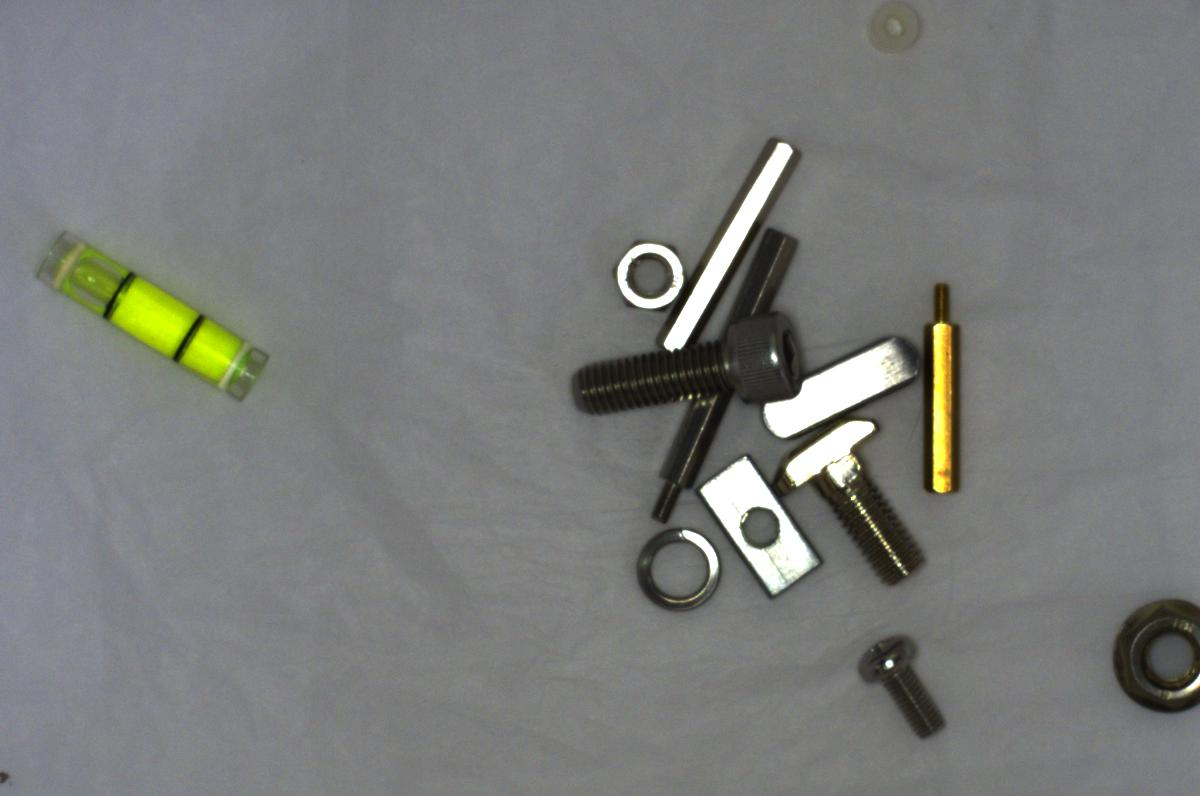Double hexagonal column: (641, 131, 810, 358)
Flange nut: (1084, 592, 1199, 718)
Hexagon nut: (605, 232, 685, 313)
Hexagon pillar: (910, 272, 978, 509)
Hexagon screw: (565, 305, 815, 419)
Hexagonal steel column: (621, 227, 808, 524)
Horizontal bubble: (30, 227, 274, 403)
Keybar: (757, 327, 925, 444)
Plastic cushion pillar: (864, 5, 929, 55)
Rectangular nut: (697, 453, 824, 601)
Round head screw: (855, 613, 961, 762)
Spring washer: (628, 521, 726, 617)
T-shaped screw: (787, 409, 926, 583)
